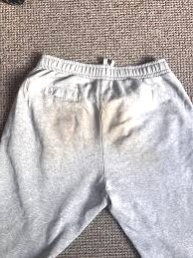earth: (107, 104, 126, 137), (65, 111, 75, 126)
